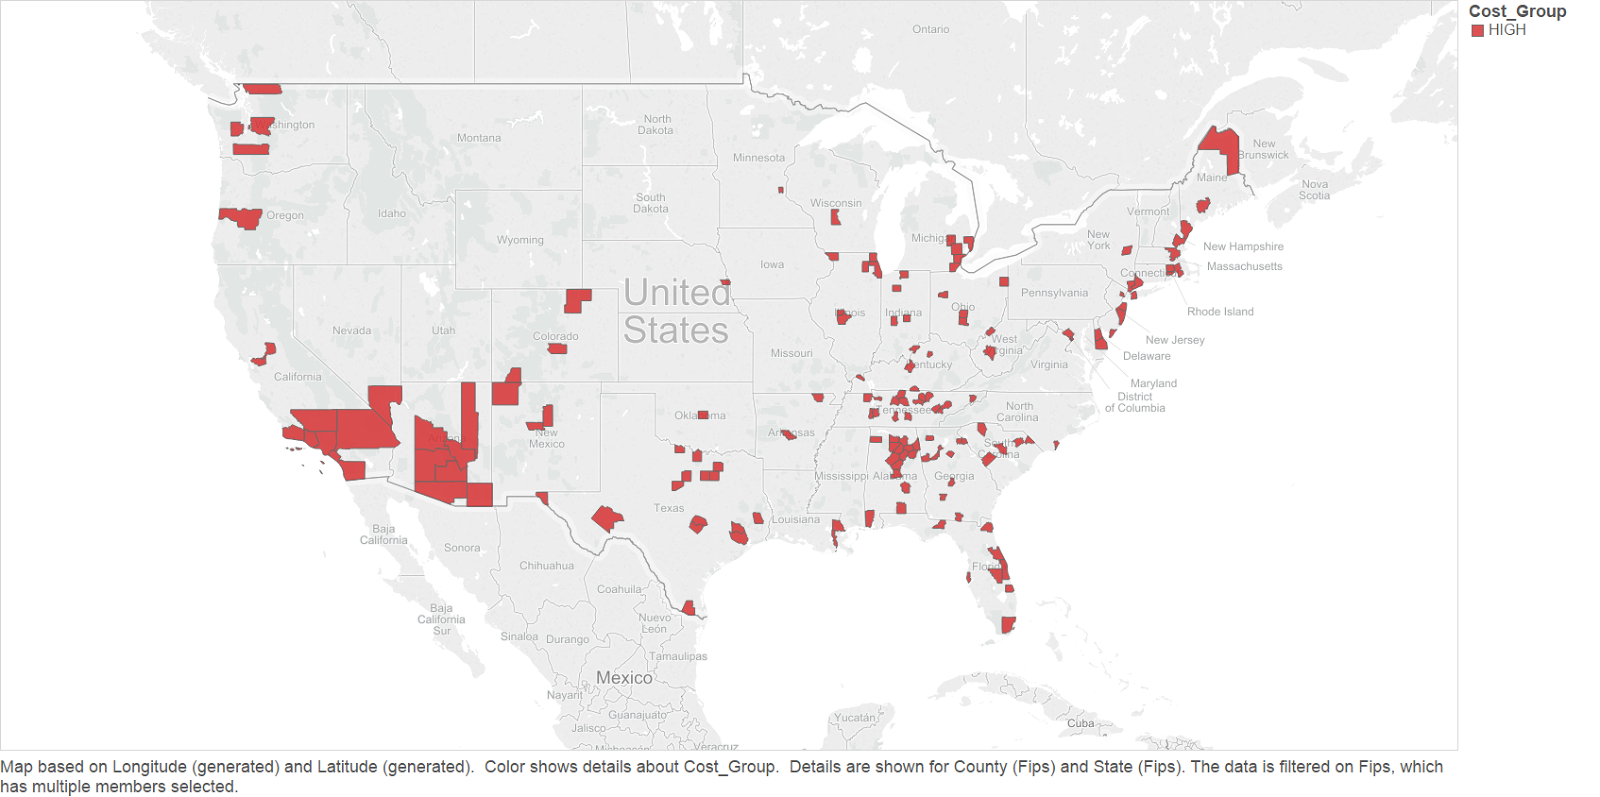

What the dashboard file says about the page in this screenshot:
{"tool":"tableau","page":{"name":"Dashboard 1","canvas":[1000,800],"ordinal":0},"visuals":[{"type":"worksheet","title":"Sheet 3","mark":"Multipolygon","box":[0,0,500,800]},{"type":"worksheet","title":"Sheet 5","mark":"Circle","rows":["LATITUDE"],"cols":["LONGITUDE"],"box":[500,0,500,800]}]}

Visuals, with their boxes on the page's 1000x800 design canvas (x1, y1, x2, y2). These are canvas units, not pixel positions in the 1600x797 screenshot, which may show the page scaled, cropped or inside an application window:
"Sheet 3" worksheet (Multipolygon marks): 0, 0, 500, 800
"Sheet 5" worksheet (Circle marks): 500, 0, 1000, 800
